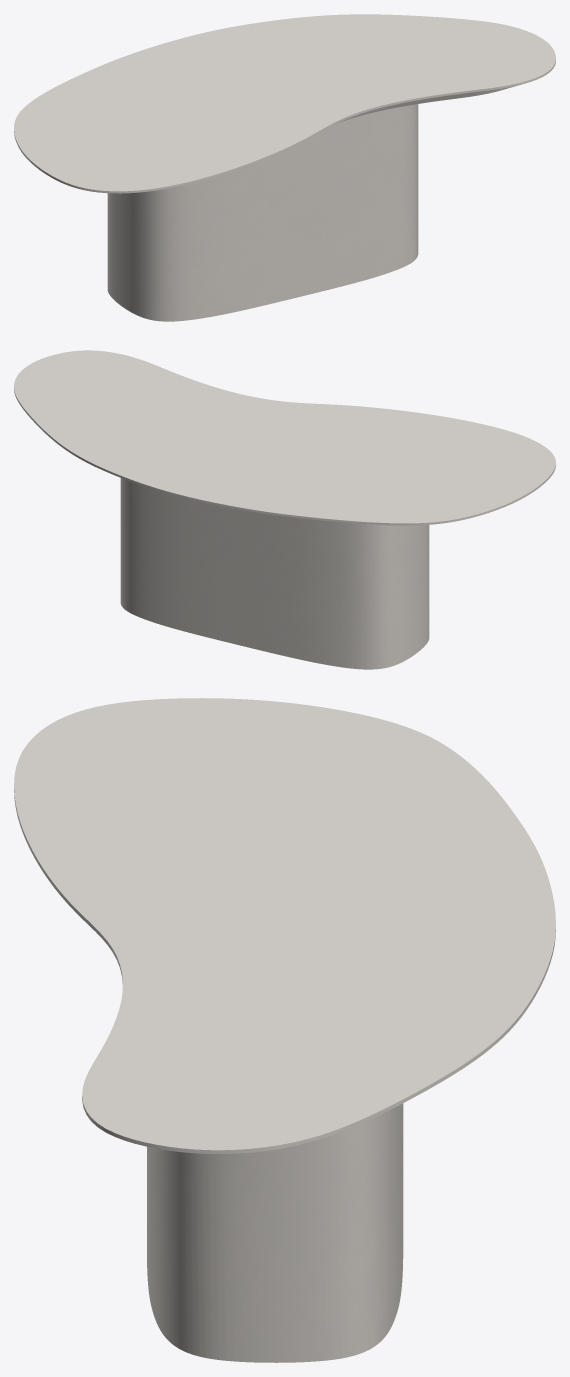
File: purewhite_leaf1_facet_fixed.glb
3 views of the same model, one above another, from view 1: azimuth 30°, elevation 25°; view 2: azimuth 150°, elevation 25°; view 3: azimuth 270°, elevation 25° (orthographic). The views are drawn at different scales.
Parts seen in each view (by area): view 1: facet_leaf1, fixed; view 2: facet_leaf1, fixed; view 3: facet_leaf1, fixed.
Part boxes in pixels (left/top/right/bottom): facet_leaf1: left=14, top=14, right=555, bottom=193; fixed: left=107, top=104, right=418, bottom=321; facet_leaf1: left=14, top=350, right=555, bottom=525; fixed: left=120, top=478, right=429, bottom=669; facet_leaf1: left=14, top=698, right=555, bottom=1153; fixed: left=147, top=1103, right=403, bottom=1362.
Size of the model in its own units: 7.5 by 2.5 by 3.8.
Materials: 1 (1 with a texture image).
